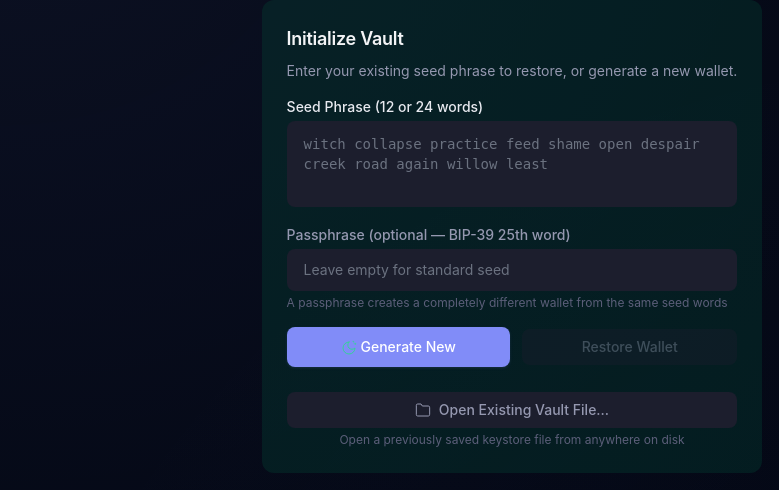
Test case: VaultInit.svelte › shows error state when initialize fails on restore
This screenshot has width=779, height=490.
Replace the text in the text box with placeholder "witch collapse practice" with "bad seed phrase". click: {"x": 512, "y": 164}
box: [287,121,737,207]
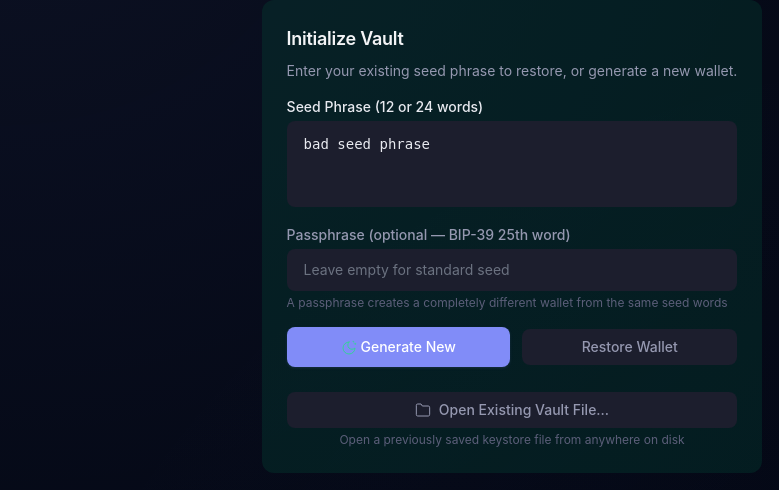
Click the button "Restore Wallet". click: {"x": 630, "y": 347}
box: [522,329,737,365]
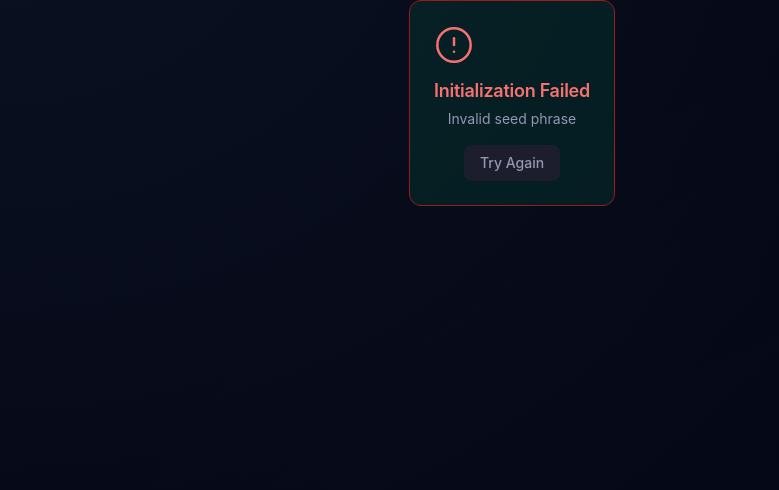
Expected: the heading "Initialization Failed" is shown, [434,77,590,105]
